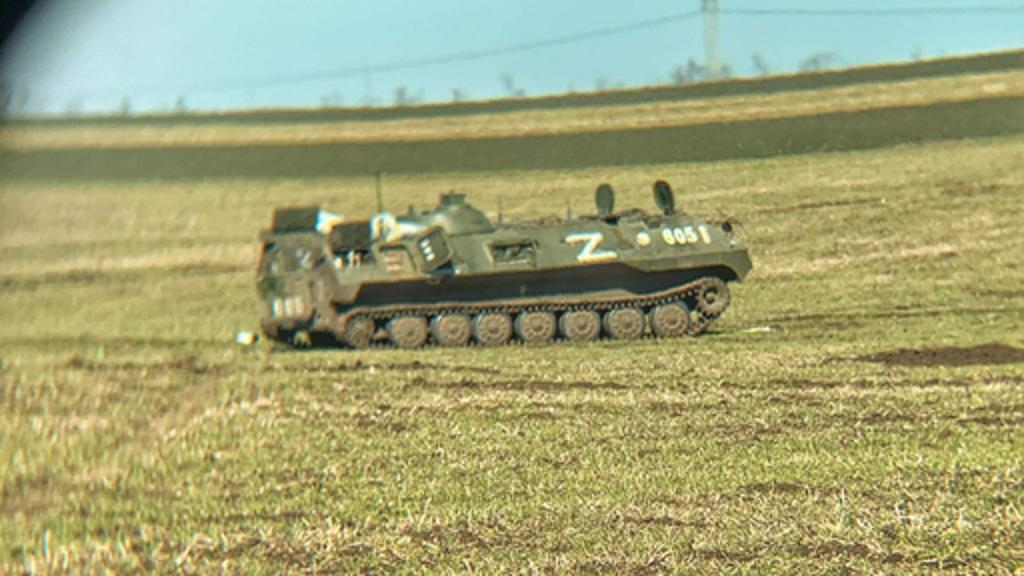APC-IFV: (254, 178, 754, 344)
